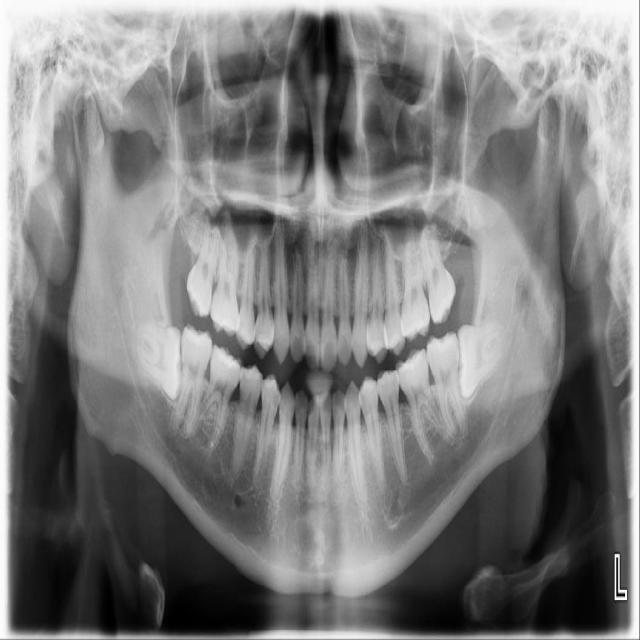Periapical lesion: (230, 475, 251, 495)
impacted tooth: (127, 324, 181, 401), (458, 314, 508, 394)
